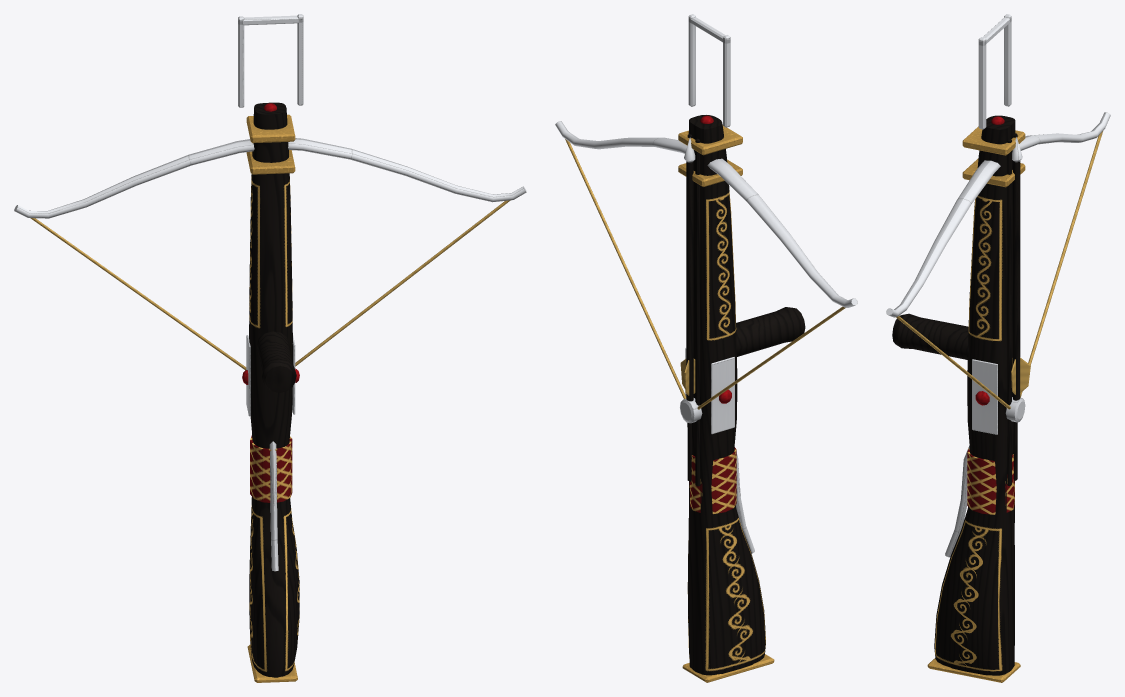
The model's file is w_crossbow_t3.glb.
3 views of the same model, side by side, from view 1: azimuth 30°, elevation 25°; view 2: azimuth 150°, elevation 25°; view 3: azimuth 270°, elevation 25° (orthographic).
Parts seen in each view (by area): view 1: w_crossbow; view 2: w_crossbow; view 3: w_crossbow.
Part boxes in pixels (<box>): w_crossbow: <box>14,14,526,682</box>; w_crossbow: <box>555,14,857,682</box>; w_crossbow: <box>886,14,1110,682</box>.
Bounding box in the file's own units: 37.72 × 56.95 × 17.96.
1 material, 1 textured.
